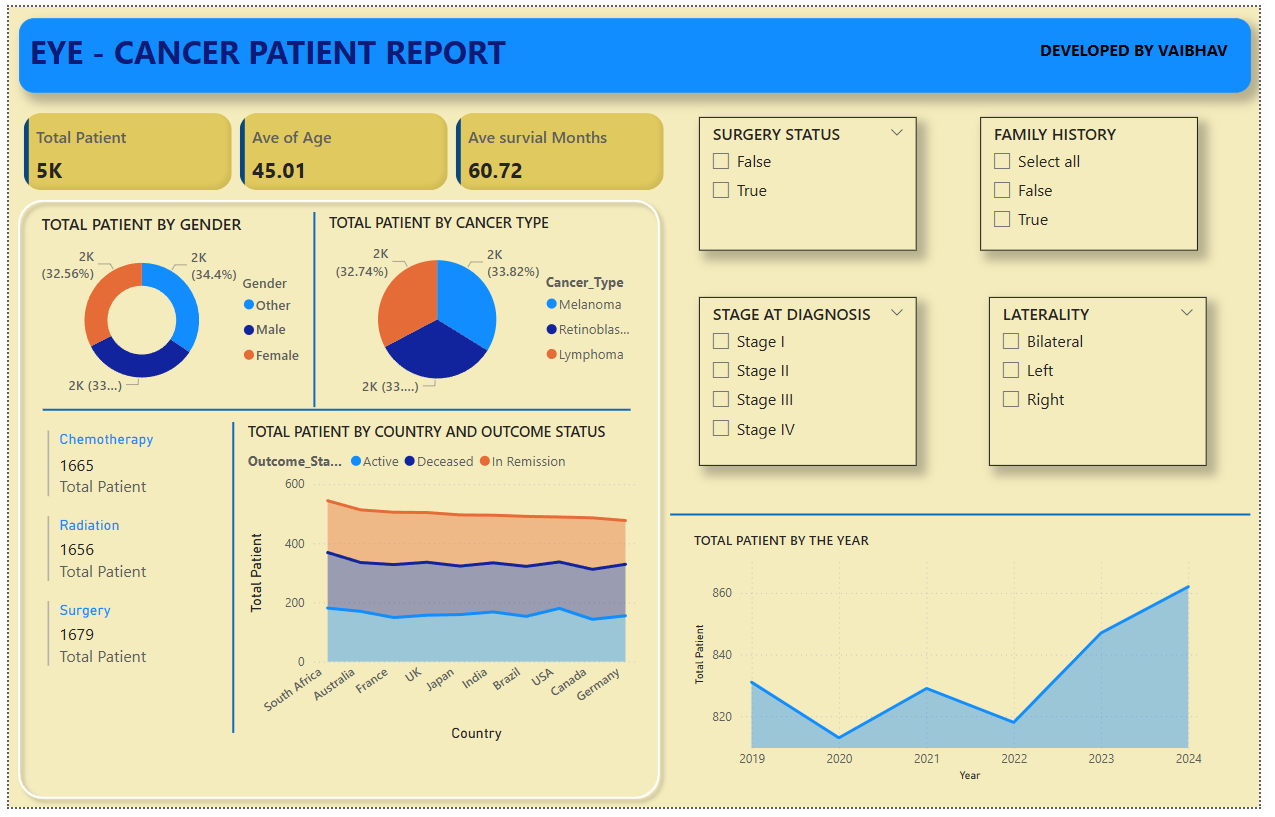

What the dashboard file says about the page in this screenshot:
{"tool":"powerbi","page":{"name":"Page 1","canvas":[1250,800],"ordinal":0},"visuals":[{"type":"textbox","box":[9.8,11,1231.7,74.4],"z":0,"group":"g1"},{"type":"group","id":"g1","title":"Group 1","box":[0,11,1241.5,789],"z":0},{"type":"textbox","box":[888.8,26.2,335,43.8],"z":1000},{"type":"shape","box":[0,183,659.8,617.1],"z":1000,"group":"g1"},{"type":"cardVisual","fields":{"Data":["eye_cancer_patients.Total Patient","eye_cancer_patients.Ave of Age","eye_cancer_patients.Ave survial Months"]},"box":[9.8,101.2,650,87.8],"z":2000,"group":"g1"},{"type":"donutChart","title":"TOTAL PATIENT BY GENDER","fields":{"Y":["eye_cancer_patients.Total Patient"],"Category":["eye_cancer_patients.Gender"]},"box":[28,204.9,278,195.1],"z":3000,"group":"g1"},{"type":"pieChart","title":"TOTAL PATIENT BY CANCER TYPE","fields":{"Y":["eye_cancer_patients.Total Patient"],"Category":["eye_cancer_patients.Cancer_Type"]},"box":[314.6,204.9,320.7,195.1],"z":4000,"group":"g1"},{"type":"shape","box":[296.3,204.9,18.3,195.1],"z":5000,"group":"g1"},{"type":"multiRowCard","fields":{"Values":["eye_cancer_patients.Treatment_Type","eye_cancer_patients.Total Patient"]},"box":[34.1,418.3,181.7,284.1],"z":6000,"group":"g1"},{"type":"shape","box":[34.1,387.8,587.8,30.5],"z":7000,"group":"g1"},{"type":"stackedAreaChart","title":"TOTAL PATIENT BY COUNTRY AND OUTCOME STATUS","fields":{"Category":["eye_cancer_patients.Country"],"Y":["eye_cancer_patients.Total Patient"],"Series":["eye_cancer_patients.Outcome_Status"]},"box":[234.1,413.4,401.2,325.6],"z":8000,"group":"g1"},{"type":"shape","box":[219.5,414.7,8.5,311],"z":9000,"group":"g1"},{"type":"areaChart","title":"TOTAL PATIENT  BY THE YEAR ","fields":{"Category":["eye_cancer_patients.Date_of_Diagnosis.Variation.Date Hierarchy.Year","eye_cancer_patients.Date_of_Diagnosis.Variation.Date Hierarchy.Quarter","eye_cancer_patients.Date_of_Diagnosis.Variation.Date Hierarchy.Month"],"Y":["eye_cancer_patients.Total Patient"]},"box":[680,523.8,517.5,256.2],"z":10000,"group":"g1"},{"type":"slicer","fields":{"Values":["eye_cancer_patients.Surgery_Status"]},"box":[690,110,217.5,133.8],"z":11000,"group":"g1"},{"type":"slicer","fields":{"Values":["eye_cancer_patients.Family_History"]},"box":[971.2,110,217.5,133.8],"z":12000,"group":"g1"},{"type":"slicer","fields":{"Values":["eye_cancer_patients.Stage_at_Diagnosis"]},"box":[690,290,217.5,168.8],"z":13000,"group":"g1"},{"type":"slicer","fields":{"Values":["eye_cancer_patients.Laterality"]},"box":[980,290,217.5,168.8],"z":14000,"group":"g1"},{"type":"shape","box":[661.2,491.3,580,32.5],"z":15000,"group":"g1"}]}

Visuals, with their boxes in screenshot pixels (x1, y1, x2, y2), scaled from the page's 1250x800 canvas onto the 1275x817 screenshot:
textbox: rect(10, 11, 1266, 87)
"Group 1" group: rect(0, 11, 1266, 816)
textbox: rect(907, 27, 1248, 71)
shape: rect(0, 187, 673, 816)
cardVisual - eye_cancer_patients.Total Patient x eye_cancer_patients.Ave of Age: rect(10, 103, 673, 193)
"TOTAL PATIENT BY GENDER" donutChart: rect(29, 209, 312, 408)
"TOTAL PATIENT BY CANCER TYPE" pieChart: rect(321, 209, 648, 408)
shape: rect(302, 209, 321, 408)
multiRowCard - eye_cancer_patients.Treatment_Type x eye_cancer_patients.Total Patient: rect(35, 427, 220, 717)
shape: rect(35, 396, 634, 427)
"TOTAL PATIENT BY COUNTRY AND OUTCOME STATUS" stackedAreaChart: rect(239, 422, 648, 755)
shape: rect(224, 424, 233, 741)
"TOTAL PATIENT  BY THE YEAR " areaChart: rect(694, 535, 1221, 797)
slicer - eye_cancer_patients.Surgery_Status: rect(704, 112, 926, 249)
slicer - eye_cancer_patients.Family_History: rect(991, 112, 1212, 249)
slicer - eye_cancer_patients.Stage_at_Diagnosis: rect(704, 296, 926, 469)
slicer - eye_cancer_patients.Laterality: rect(1000, 296, 1221, 469)
shape: rect(674, 502, 1266, 535)
